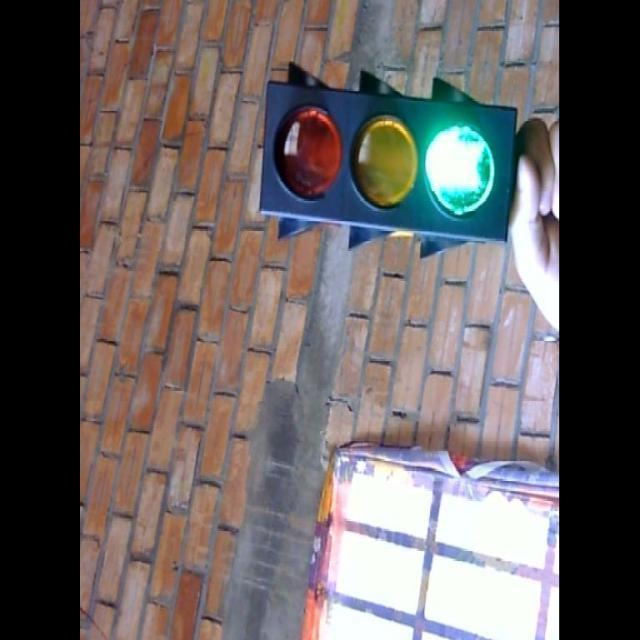green_light: (258, 69, 553, 239)
